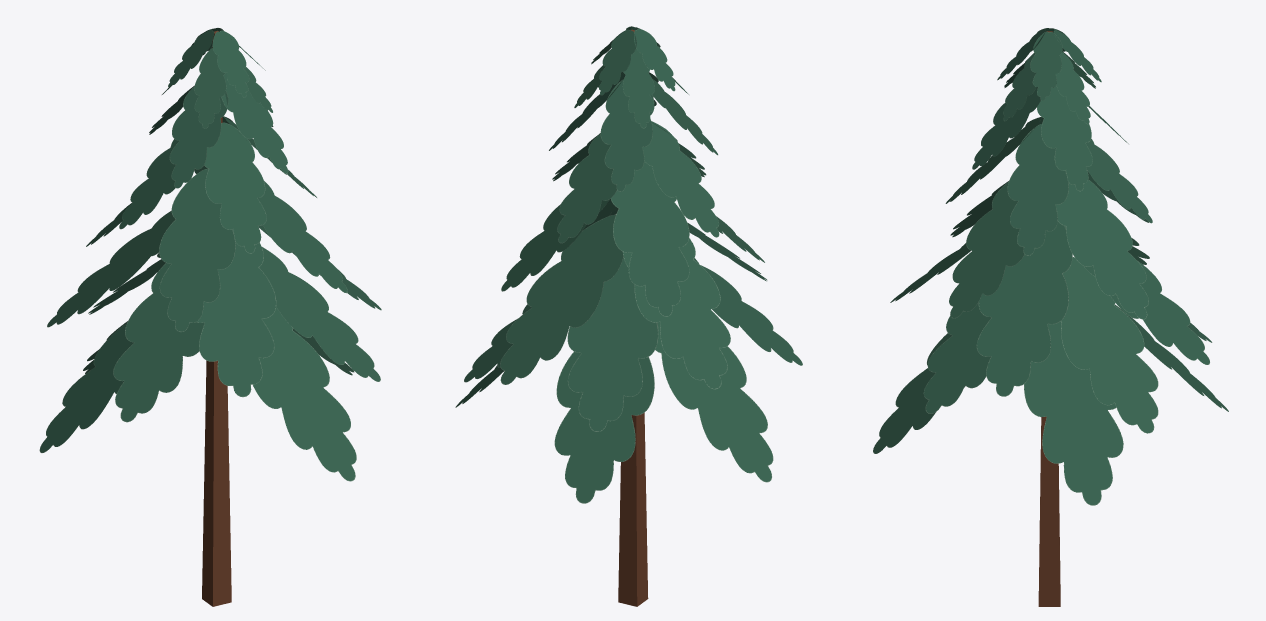
File: FBX_Tree_Pine.fbx
3 renders of one model, left to right at view 1: azimuth 30°, elevation 25°; view 2: azimuth 150°, elevation 25°; view 3: azimuth 270°, elevation 25°, orthographic.
Parts seen in each view (by area): view 1: Tree_Pine; view 2: Tree_Pine; view 3: Tree_Pine.
Boxes of the visible parts, box(x1,y1,x2,y2) form: Tree_Pine: box(39, 28, 381, 606); Tree_Pine: box(455, 26, 802, 606); Tree_Pine: box(873, 28, 1228, 606).
Size of the model in its own units: 266 by 266 by 420.
